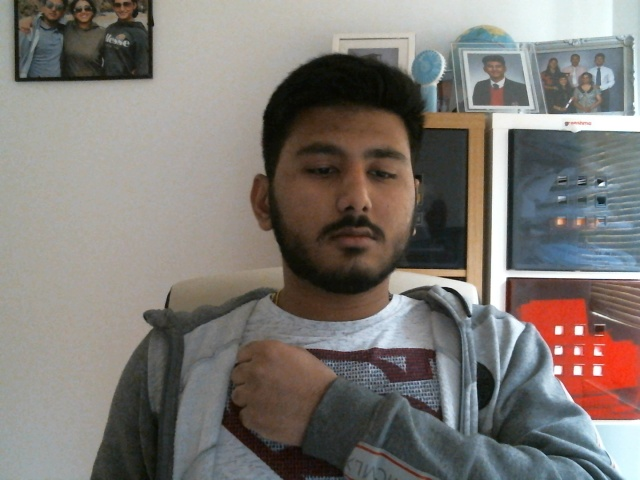morning: (230, 340, 311, 441)
